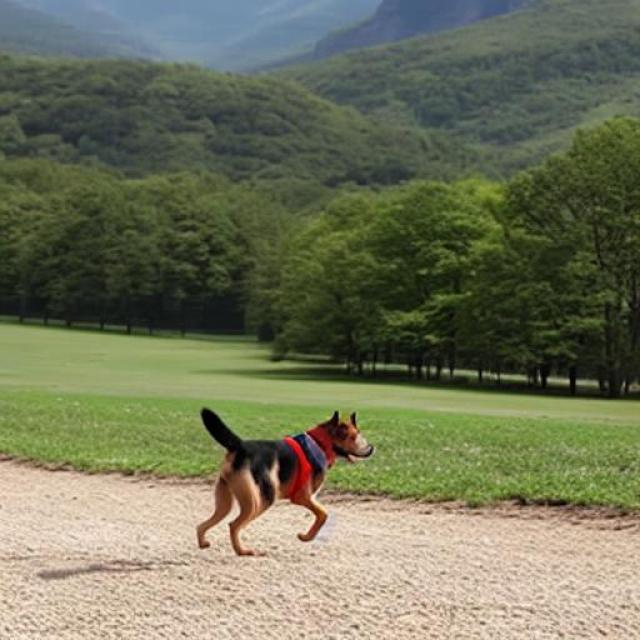Dog: (196, 408, 376, 556)
